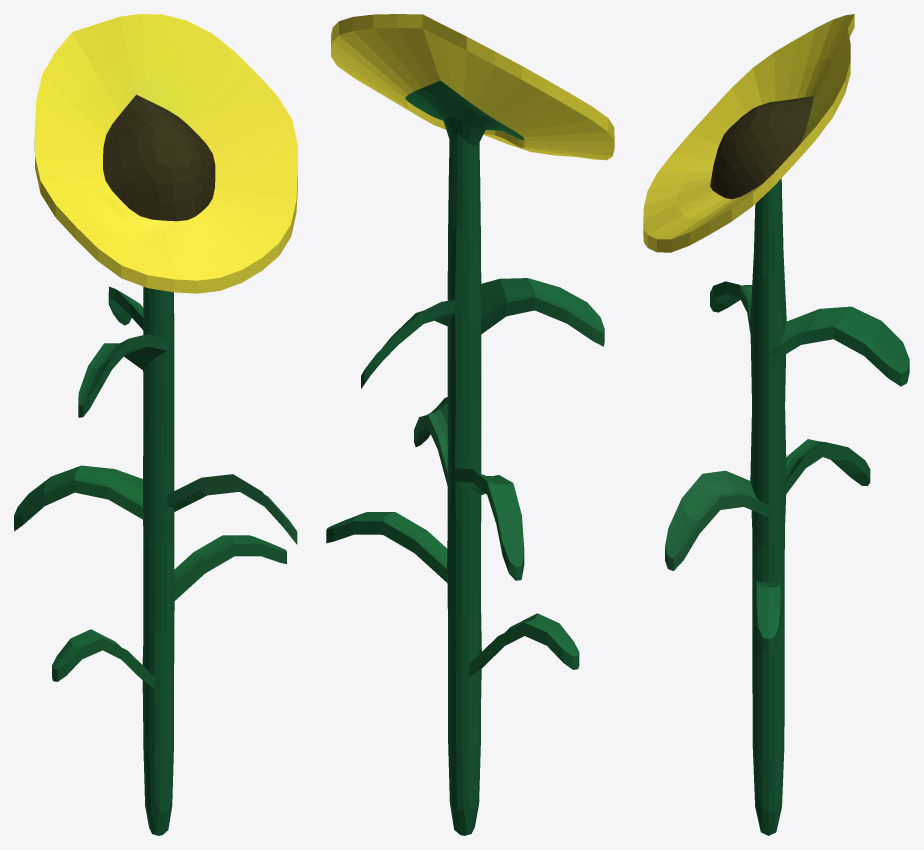
Rendered from SM_Crop_Sunflower_Stage_Grown.fbx.
3 renders of one model, left to right at view 1: azimuth 30°, elevation 25°; view 2: azimuth 150°, elevation 25°; view 3: azimuth 270°, elevation 25°, orthographic. The views are drawn at different scales.
Visible parts, largest first — view 1: SM_Crop_Sunflower_ST3; view 2: SM_Crop_Sunflower_ST3; view 3: SM_Crop_Sunflower_ST3.
Part boxes in pixels (x1=…): SM_Crop_Sunflower_ST3: x1=14, y1=14, x2=297, y2=835; SM_Crop_Sunflower_ST3: x1=326, y1=14, x2=614, y2=835; SM_Crop_Sunflower_ST3: x1=643, y1=14, x2=909, y2=835.
Bounding box in the file's own units: 73.07 × 218 × 65.28.
1 material, 1 textured.
